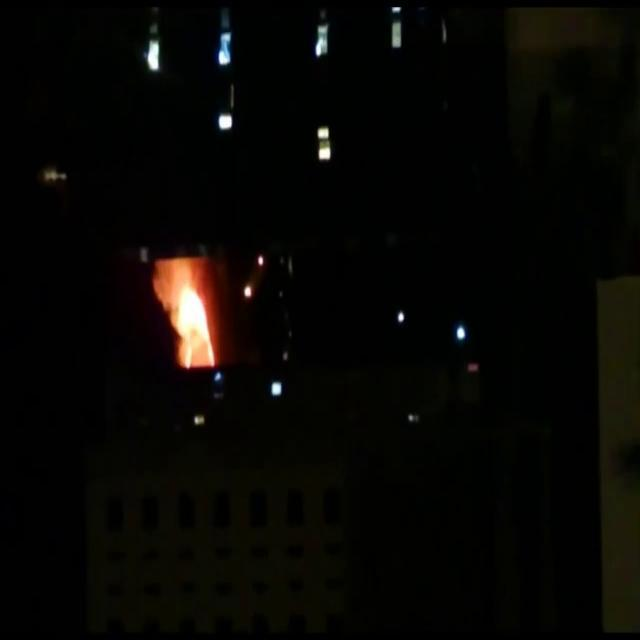Fire: (154, 266, 223, 368)
